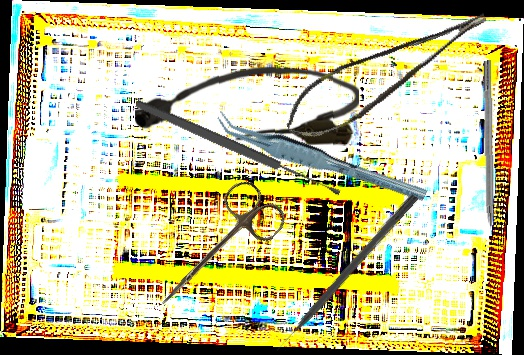Cannula: (134, 63, 360, 146)
Hook Surgical: (480, 60, 496, 251)
Iris Scissors: (141, 174, 291, 329)
Micro Scissor: (273, 6, 504, 149)
Pusher: (270, 191, 420, 355)
Surgical Spoon: (133, 97, 343, 200)
Tissue Forceps: (212, 92, 429, 225)
